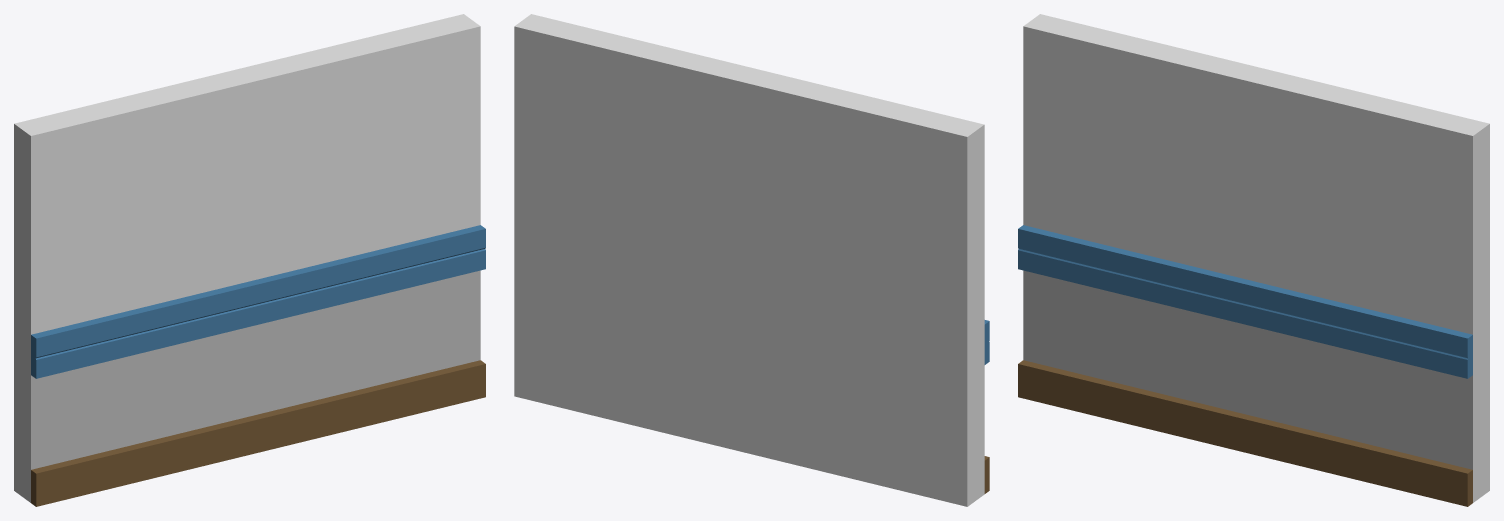
The model's file is H_Wall_Medium_Office.fbx.
3 views of the same model, side by side, from view 1: azimuth 30°, elevation 25°; view 2: azimuth 150°, elevation 25°; view 3: azimuth 330°, elevation 25° (orthographic).
Parts seen in each view (by area): view 1: H_Wall_Medium_Office; view 2: H_Wall_Medium_Office; view 3: H_Wall_Medium_Office.
Boxes of the visible parts, x1,y1,x2,y2 form: H_Wall_Medium_Office: (14,14,485,506); H_Wall_Medium_Office: (514,14,989,506); H_Wall_Medium_Office: (1018,14,1489,506).
Bounding box in the file's own units: 2000 × 170 × 1560.
